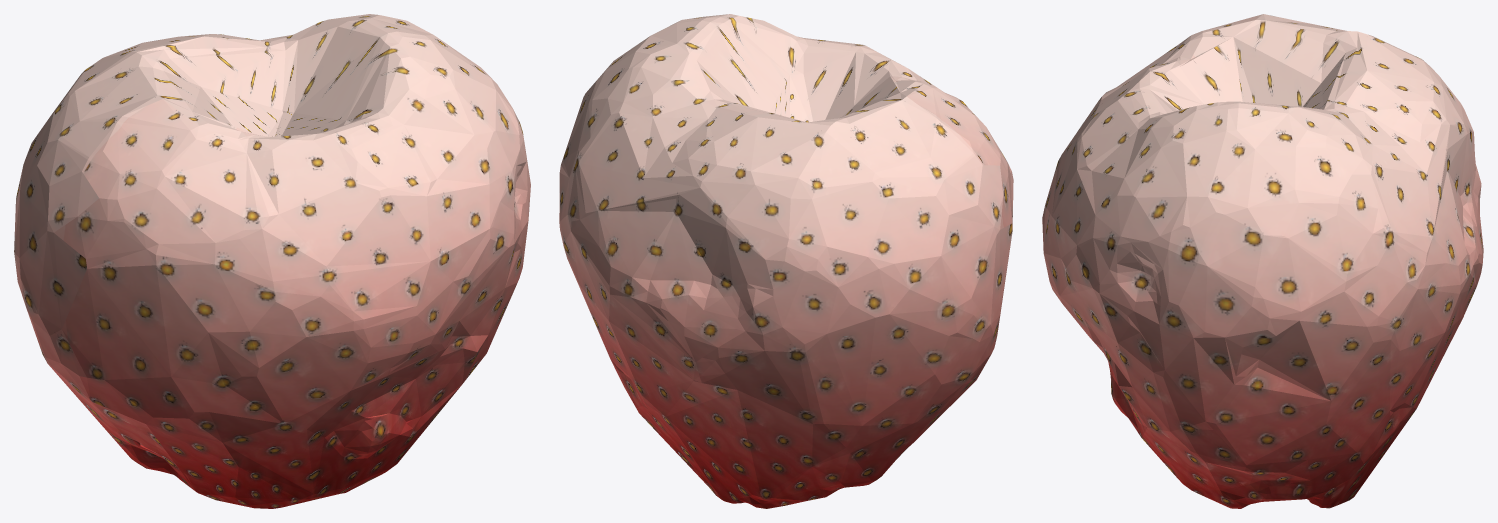
The picture shows the model from 3 angles, left to right: view 1: azimuth 30°, elevation 25°; view 2: azimuth 150°, elevation 25°; view 3: azimuth 270°, elevation 25°; orthographic projection. The views are drawn at different scales.
Visible parts, largest first — view 1: _002_Meshed; view 2: _002_Meshed; view 3: _002_Meshed.
Boxes of the visible parts, x1,y1,x2,y2 form: _002_Meshed: (14, 14, 530, 508); _002_Meshed: (559, 14, 1013, 508); _002_Meshed: (1042, 14, 1483, 508).
Size of the model in its own units: 0.1 by 0.0879 by 0.0956.
Materials: 1 (1 with a texture image).
